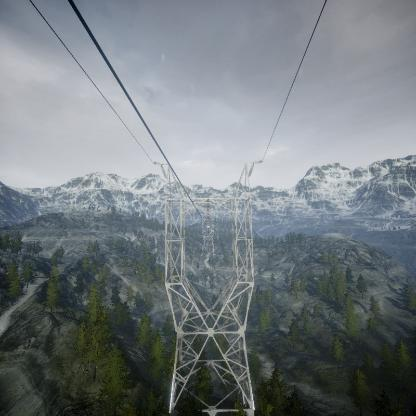tower: (159, 164, 260, 414)
